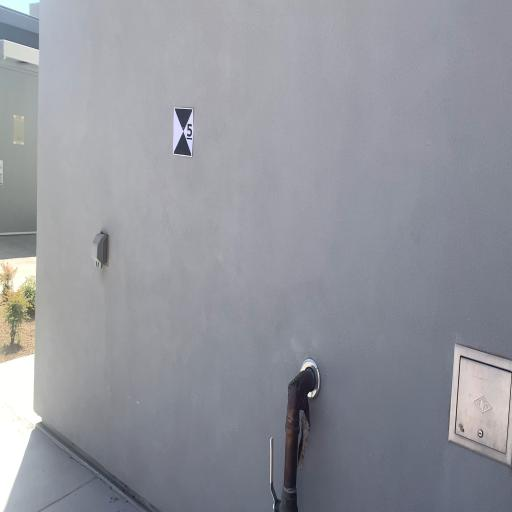target5: (174, 106, 194, 156)
